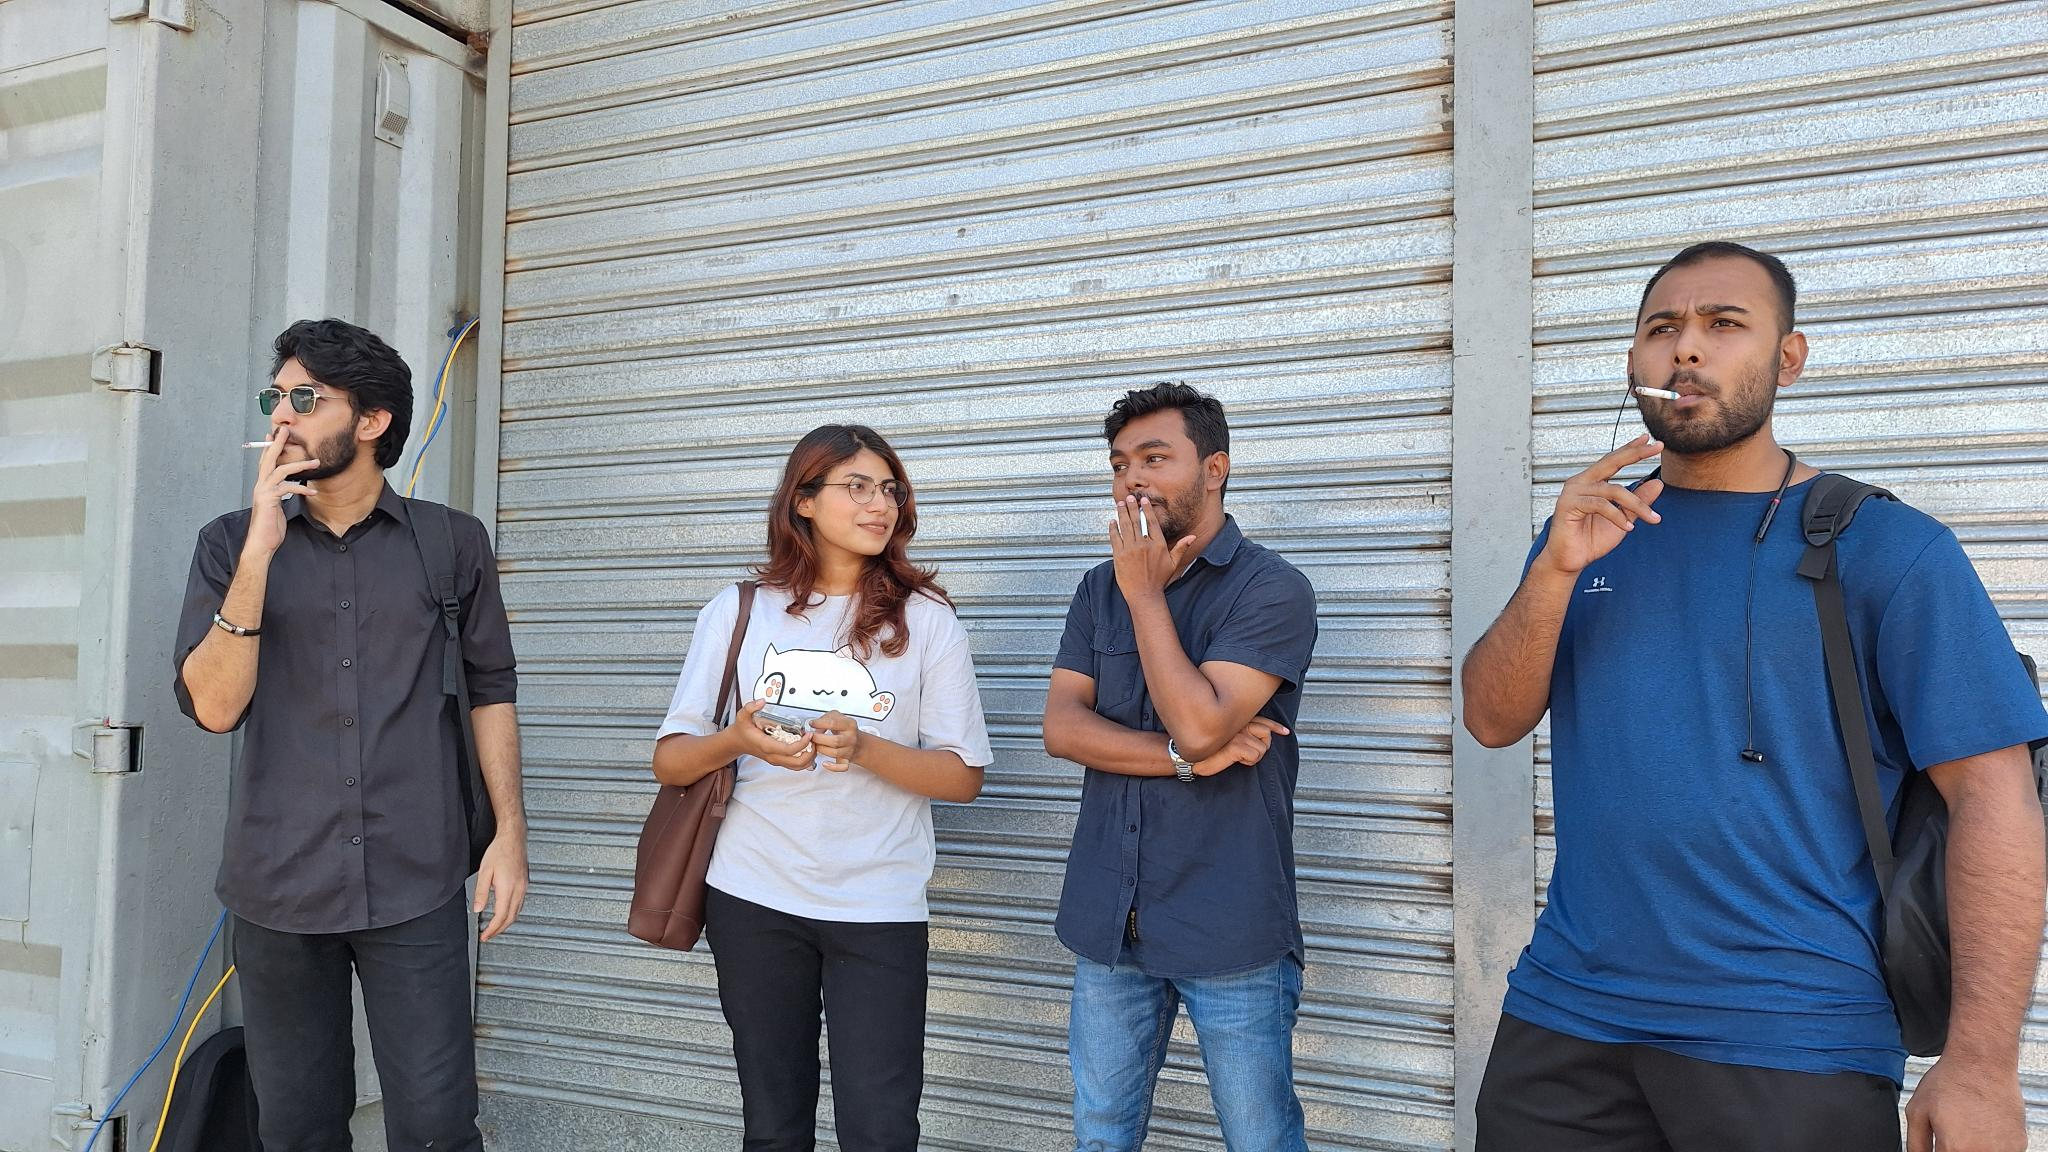cigarette: (1633, 384, 1684, 404), (1137, 505, 1151, 542), (239, 440, 276, 450)
nonSmoker: (627, 423, 996, 1152)
smoker: (1461, 241, 2048, 1152), (173, 322, 530, 1152), (1042, 383, 1319, 1152)
